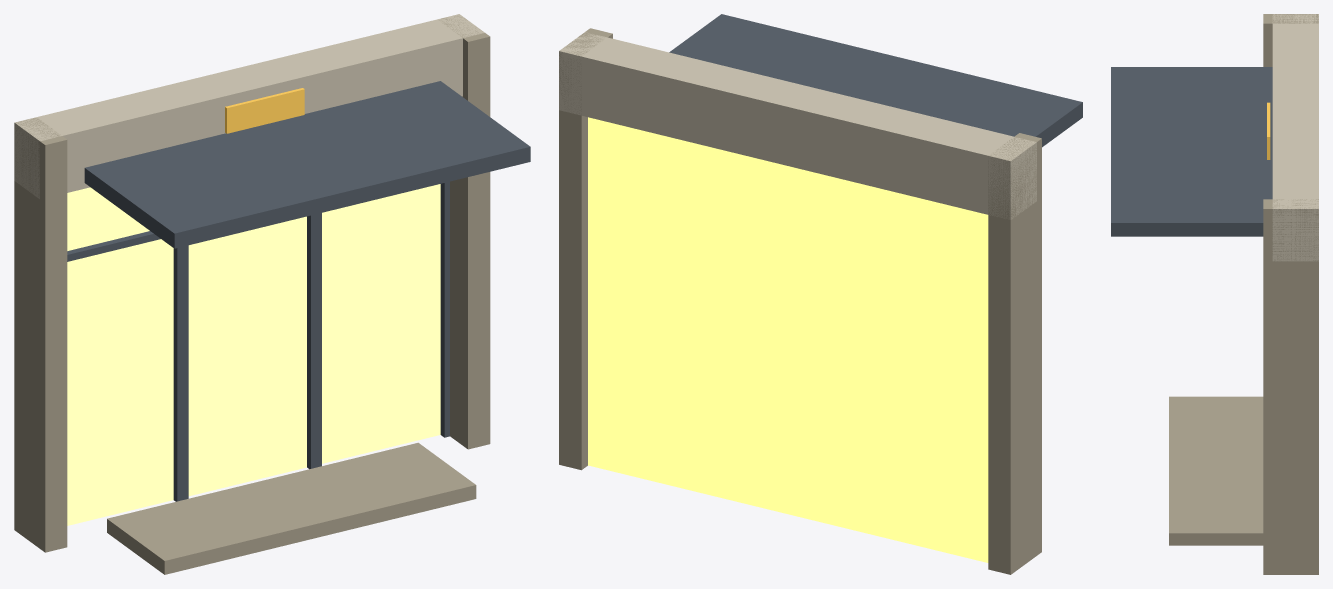
File: co_lobby.glb
The picture shows the model from 3 angles, left to right: view 1: azimuth 30°, elevation 25°; view 2: azimuth 150°, elevation 25°; view 3: azimuth 270°, elevation 25°; orthographic projection. The views are drawn at different scales.
Visible parts, largest first — view 1: city_co_lobby; view 2: city_co_lobby; view 3: city_co_lobby.
Part boxes in pixels (bbox=[...]): city_co_lobby: bbox=[14, 14, 530, 574]; city_co_lobby: bbox=[559, 14, 1082, 574]; city_co_lobby: bbox=[1111, 14, 1318, 574].
Size of the model in its own units: 4 by 3.5 by 1.8.
2 materials, 2 textured.
